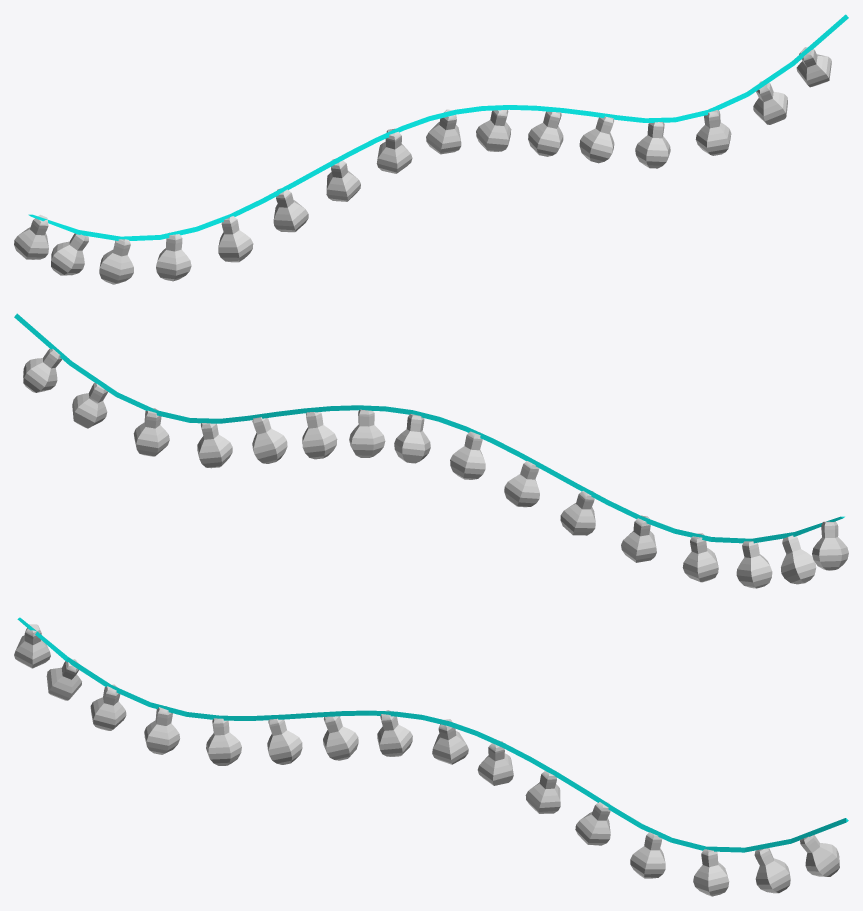
Rendered from m_fenceLights.fbx.
The picture shows the model from 3 angles, top to bottom: view 1: azimuth 30°, elevation 25°; view 2: azimuth 150°, elevation 25°; view 3: azimuth 330°, elevation 25°; orthographic projection.
Visible parts, largest first — view 1: polySurface879; view 2: polySurface879; view 3: polySurface879.
Boxes of the visible parts, box(x1,y1,x2,y2) form: polySurface879: box(14, 14, 848, 284); polySurface879: box(14, 313, 848, 588); polySurface879: box(14, 617, 848, 896).
Size of the model in its own units: 980 by 122 by 52.56.
